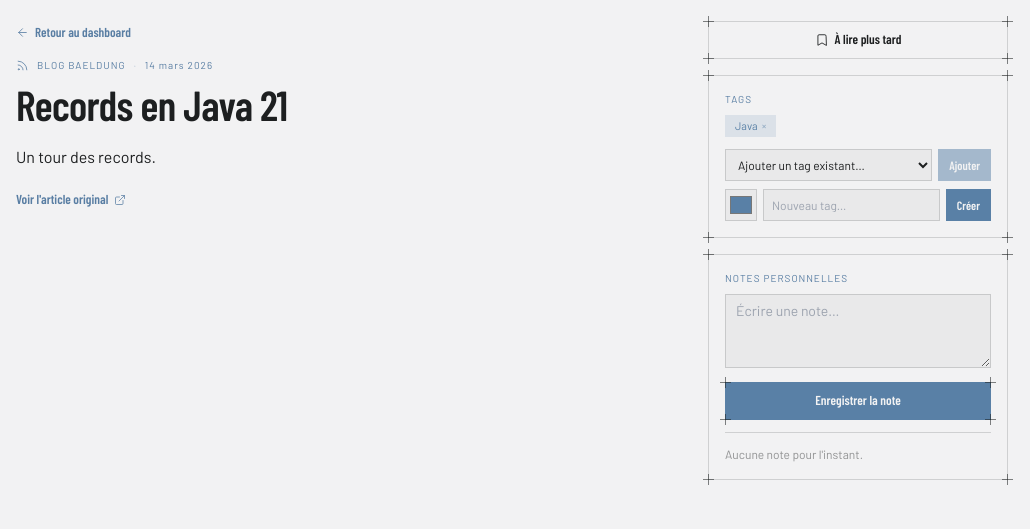
Scenario: ArticleDetail › ajoute une note et l'affiche immédiatement
The width and height of the screenshot is (1030, 529).
Expected: the heading "Records en Java 21" is shown, [16, 79, 287, 129]
In the text box with placeholder "Écrire une note…": (858, 331) [725, 294, 991, 368], type "À relire pour le projet"
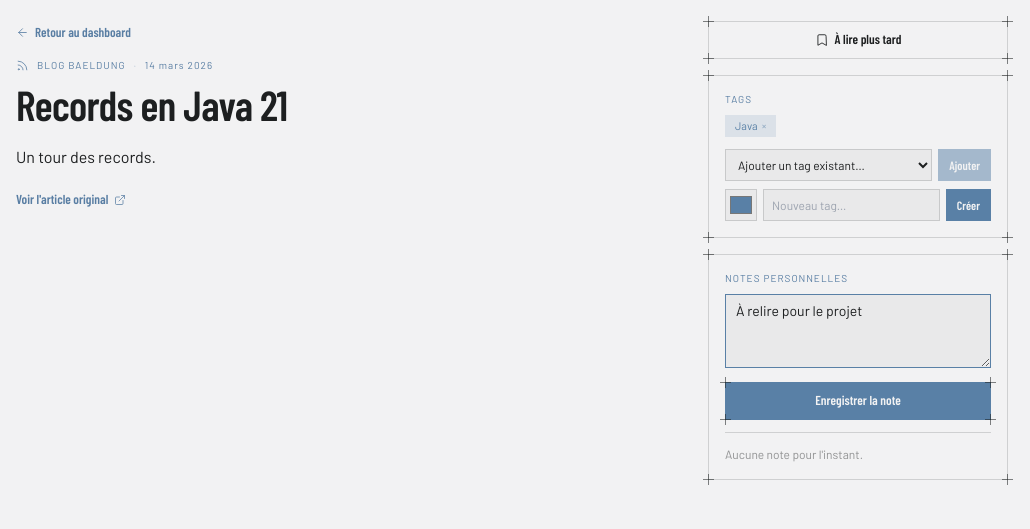
Click the button "Enregistrer la note": (858, 401) [725, 382, 991, 420]
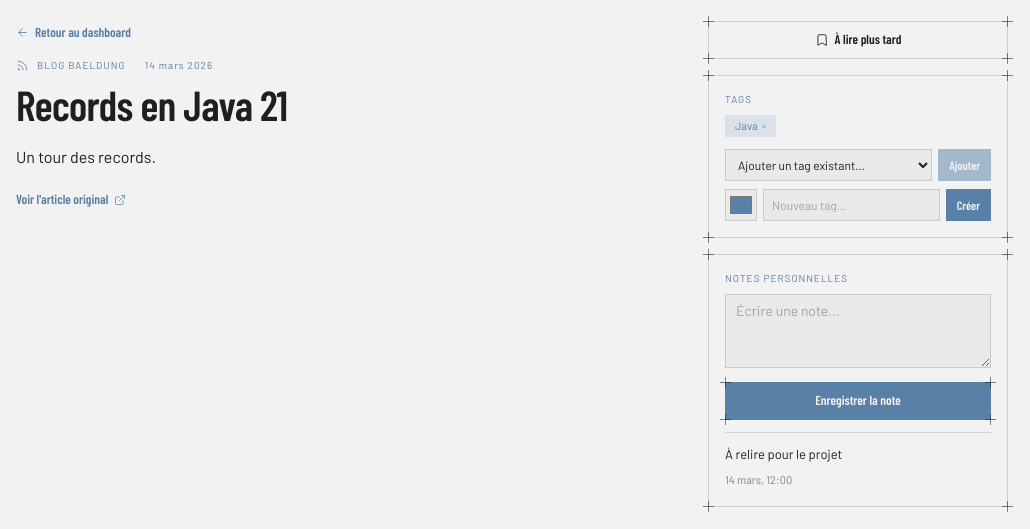
Expected: the text "À relire pour le projet" is shown, [725, 446, 842, 462]
